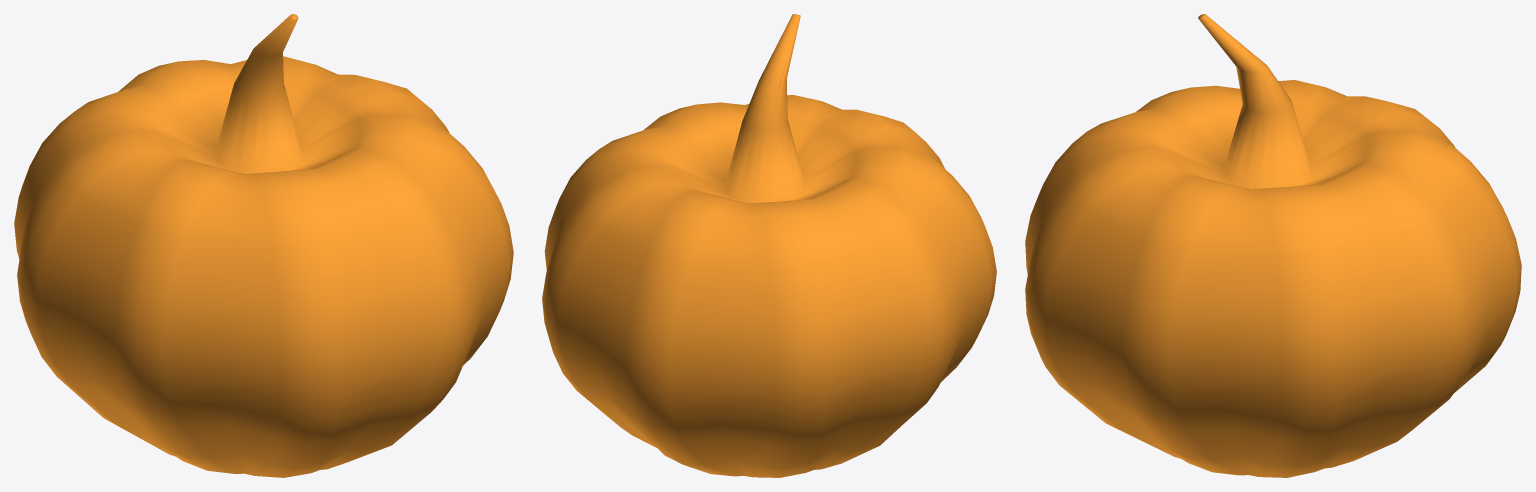
The model's file is ToyObject_032.fbx.
The picture shows the model from 3 angles, left to right: view 1: azimuth 30°, elevation 25°; view 2: azimuth 150°, elevation 25°; view 3: azimuth 270°, elevation 25°; orthographic projection. The views are drawn at different scales.
Parts seen in each view (by area): view 1: 1.036; view 2: 1.036; view 3: 1.036.
Boxes of the visible parts, x1,y1,x2,y2 form: 1.036: [14, 14, 513, 477]; 1.036: [542, 14, 996, 477]; 1.036: [1025, 14, 1521, 477].
Bounding box in the file's own units: 0.1764 × 0.1779 × 0.1848.
